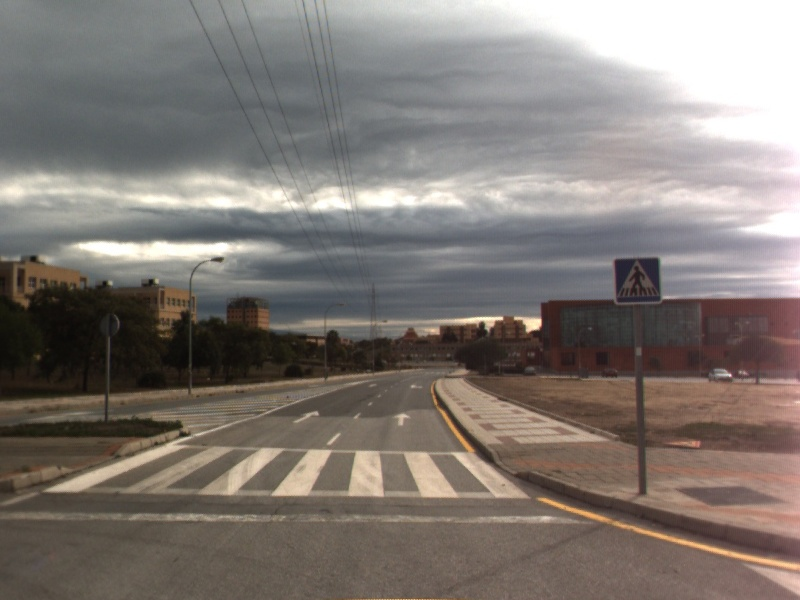STRAIGHT: (290, 408, 321, 425), (390, 410, 413, 427)
